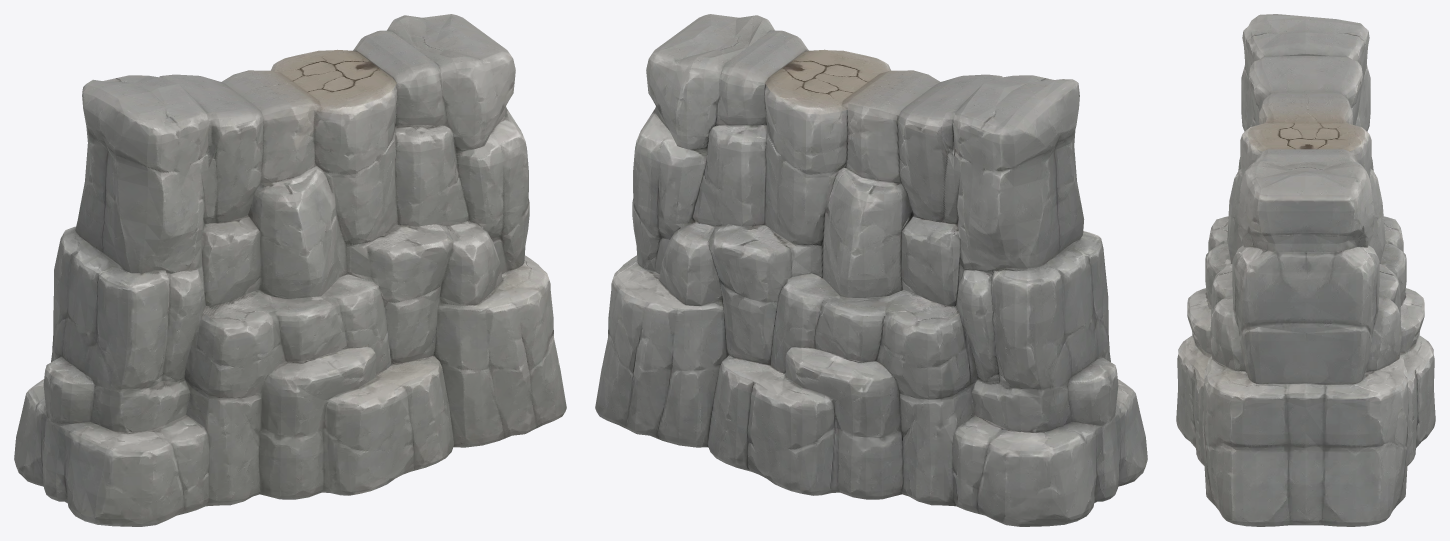
Rendered from env_wall_step.glb.
3 renders of one model, left to right at view 1: azimuth 30°, elevation 25°; view 2: azimuth 150°, elevation 25°; view 3: azimuth 270°, elevation 25°, orthographic. The views are drawn at different scales.
Bounding box in the file's own units: 1.91 × 1.46 × 1.01.
1 material, 1 textured.
